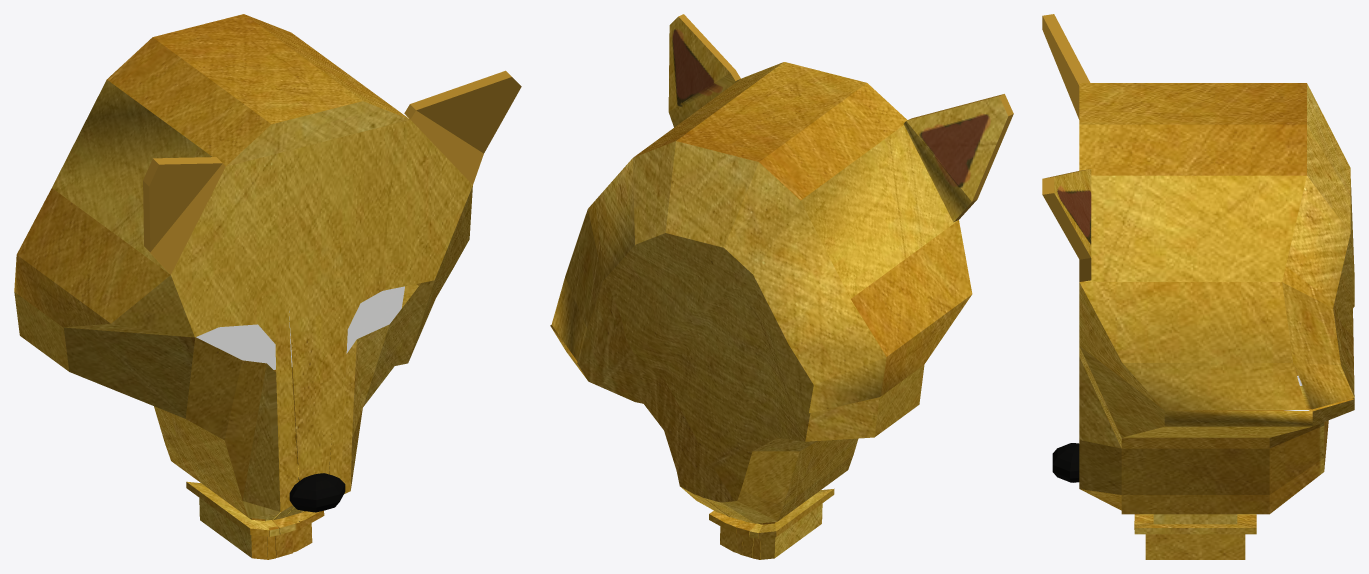
Rendered from wolfHeadNew.fbx.
The picture shows the model from 3 angles, left to right: view 1: azimuth 30°, elevation 25°; view 2: azimuth 150°, elevation 25°; view 3: azimuth 270°, elevation 25°; orthographic projection. The views are drawn at different scales.
Parts seen in each view (by area): view 1: WolfHelmet; view 2: WolfHelmet; view 3: WolfHelmet.
Part boxes in pixels (x1,y1,x2,y2): WolfHelmet: (14, 14, 521, 559); WolfHelmet: (550, 14, 1013, 559); WolfHelmet: (1042, 14, 1354, 559).
Bounding box in the file's own units: 154 × 189 × 117.
